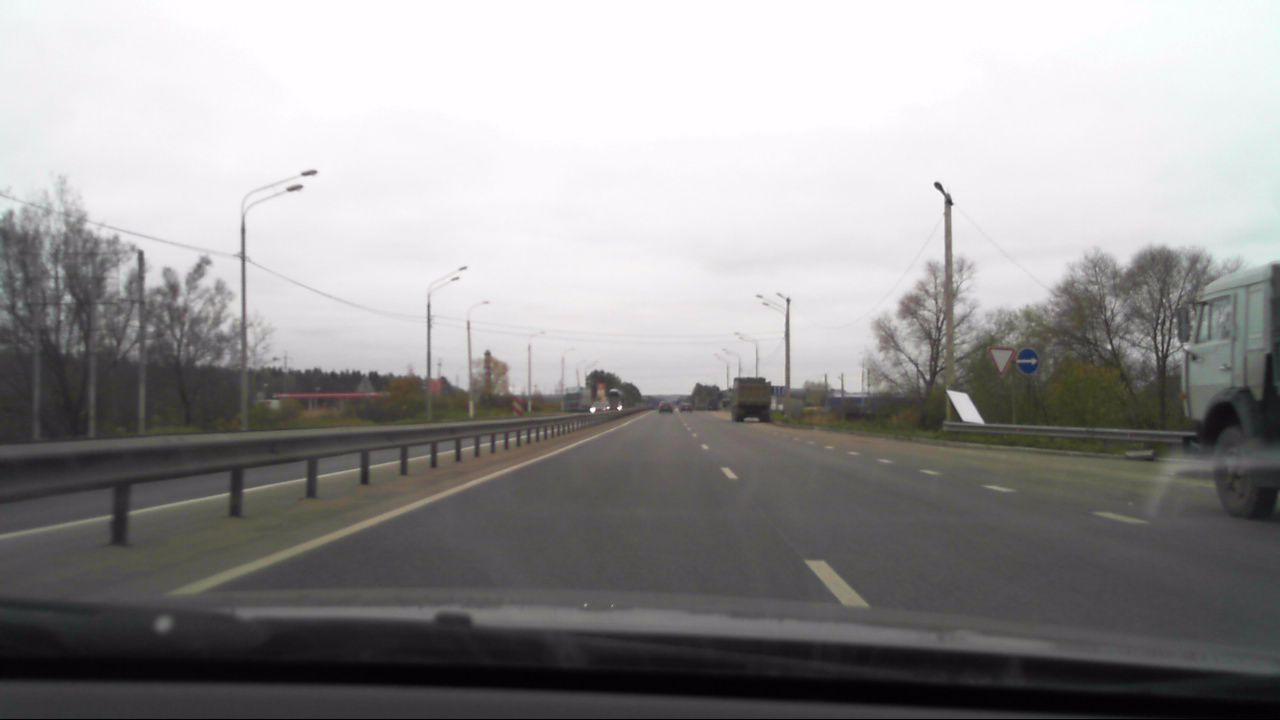Turn Right: (1016, 348, 1040, 374)
